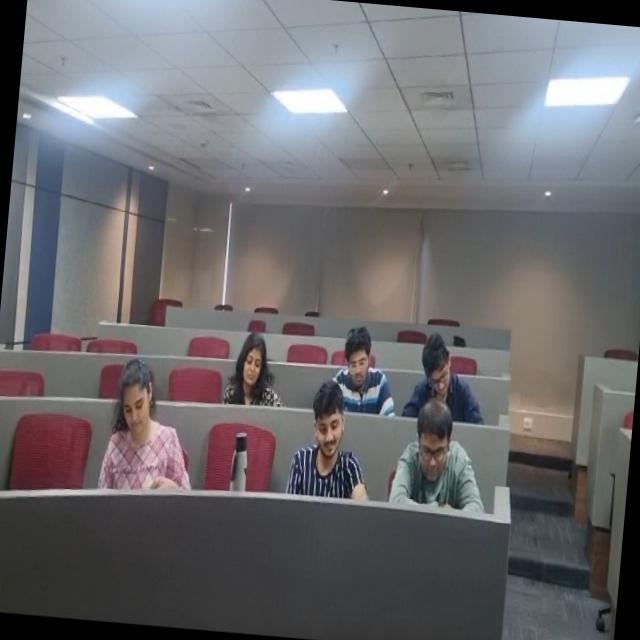cheating: (90, 349, 199, 516)
non-cheating: (274, 362, 368, 522), (379, 398, 471, 520), (392, 314, 482, 423), (314, 326, 384, 434), (210, 313, 281, 419)
